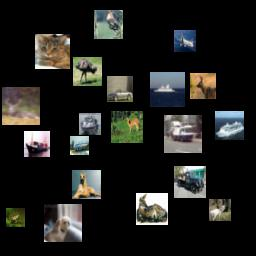airplane: (174, 30, 196, 52)
automobile: (107, 76, 133, 102)
bird: (73, 57, 102, 86), (94, 10, 123, 39)
cat: (35, 34, 70, 69)
deer: (2, 87, 40, 125), (111, 111, 143, 143), (136, 193, 168, 225), (209, 199, 231, 221)
dog: (44, 204, 82, 242), (72, 170, 101, 199), (190, 73, 216, 99)
frog: (6, 208, 25, 227)
ship: (150, 72, 185, 107), (215, 111, 244, 140), (24, 131, 50, 157), (79, 113, 101, 135), (70, 136, 89, 155)
truck: (164, 115, 202, 153), (174, 166, 206, 198)
